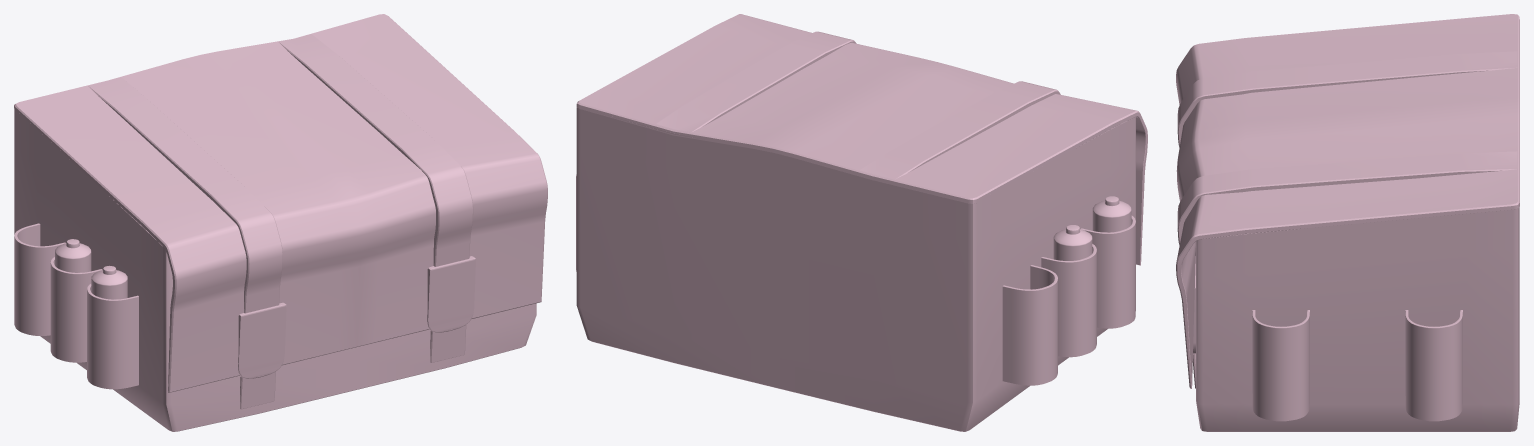
The model's file is First_aid_kit.fbx.
3 views of the same model, side by side, from view 1: azimuth 30°, elevation 25°; view 2: azimuth 150°, elevation 25°; view 3: azimuth 270°, elevation 25° (orthographic). The views are drawn at different scales.
Parts seen in each view (by area): view 1: First_aid_kit; view 2: First_aid_kit; view 3: First_aid_kit.
Boxes of the visible parts, x1,y1,x2,y2 form: First_aid_kit: (14,14,547,431); First_aid_kit: (576,14,1147,431); First_aid_kit: (1176,14,1519,431).
Size of the model in its own units: 83.13 by 40.19 by 53.11.
